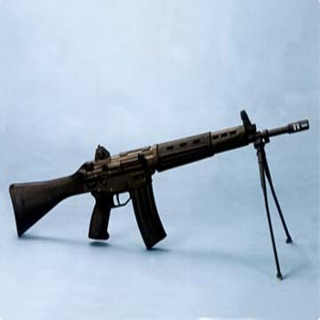rifle: (8, 109, 313, 253)
